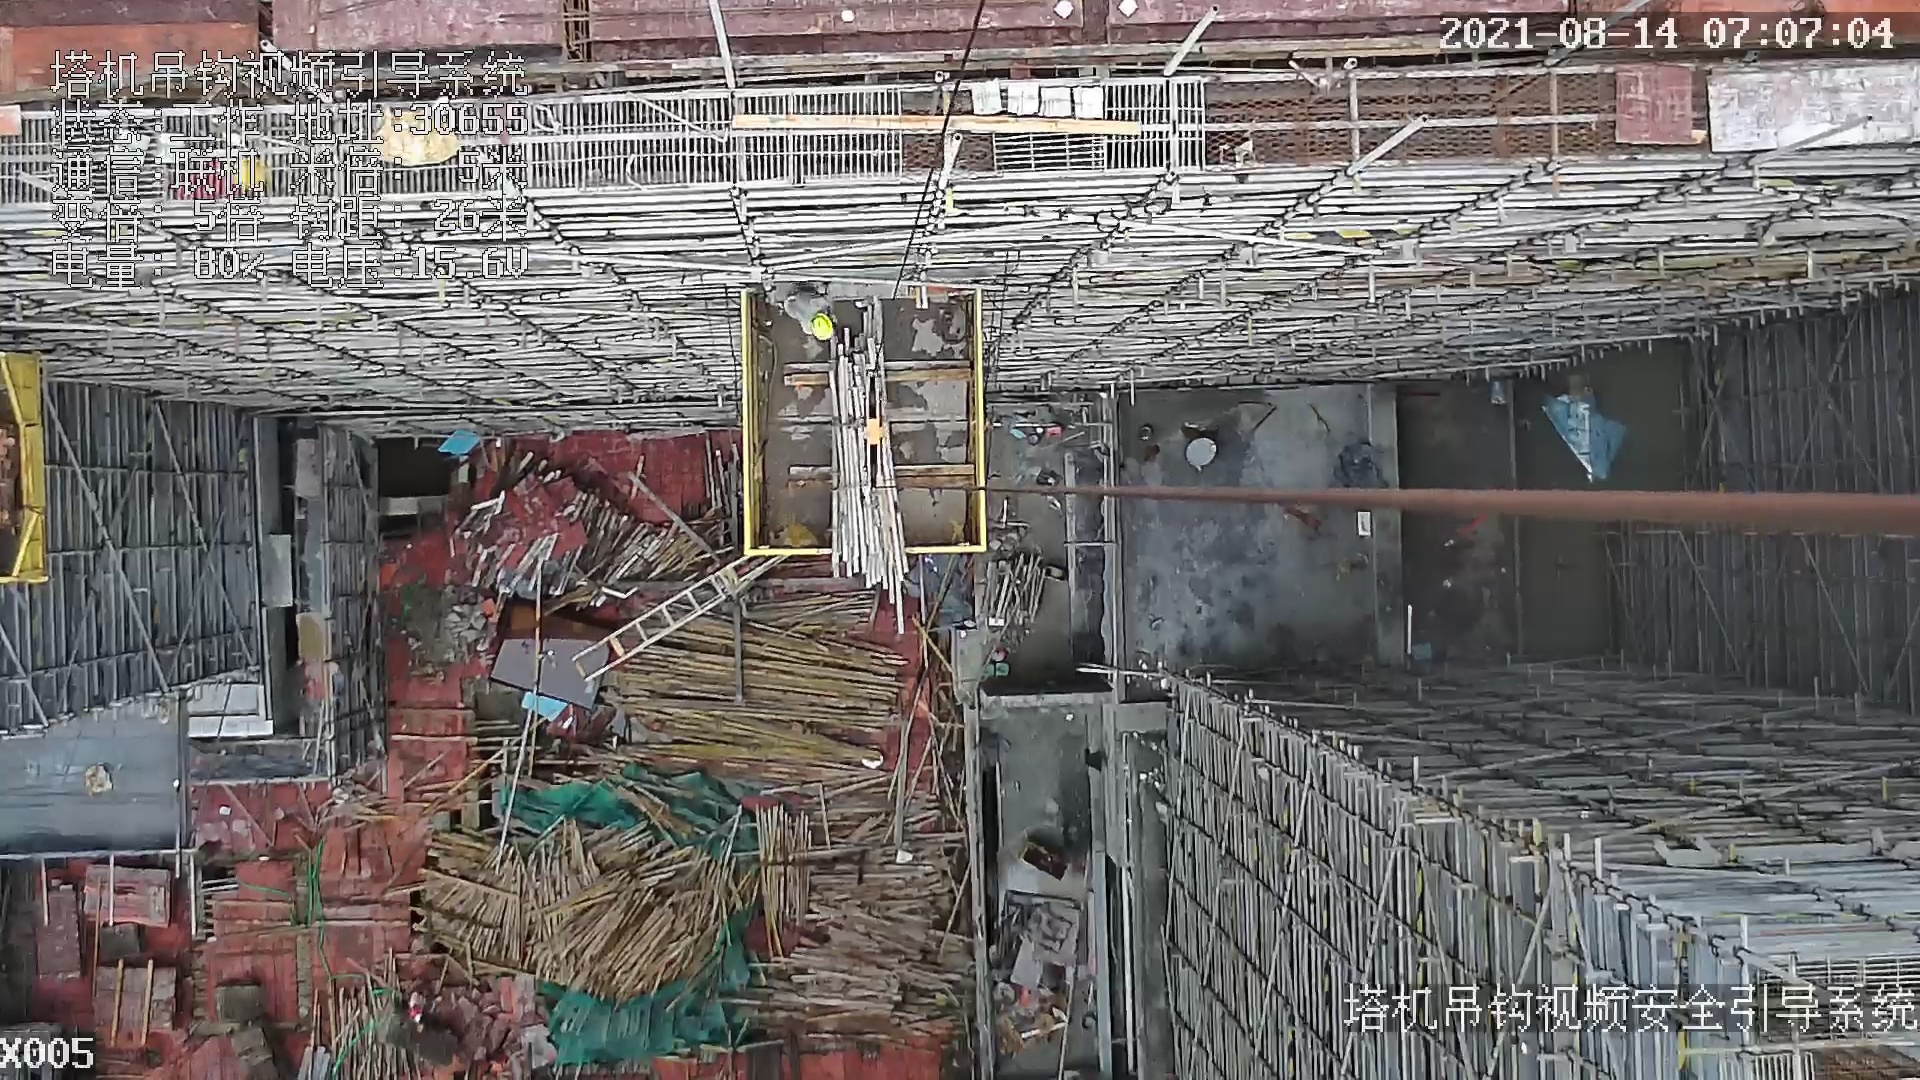helmet: (811, 311, 833, 341)
hook: (856, 371, 892, 504)
person: (782, 287, 841, 347)
